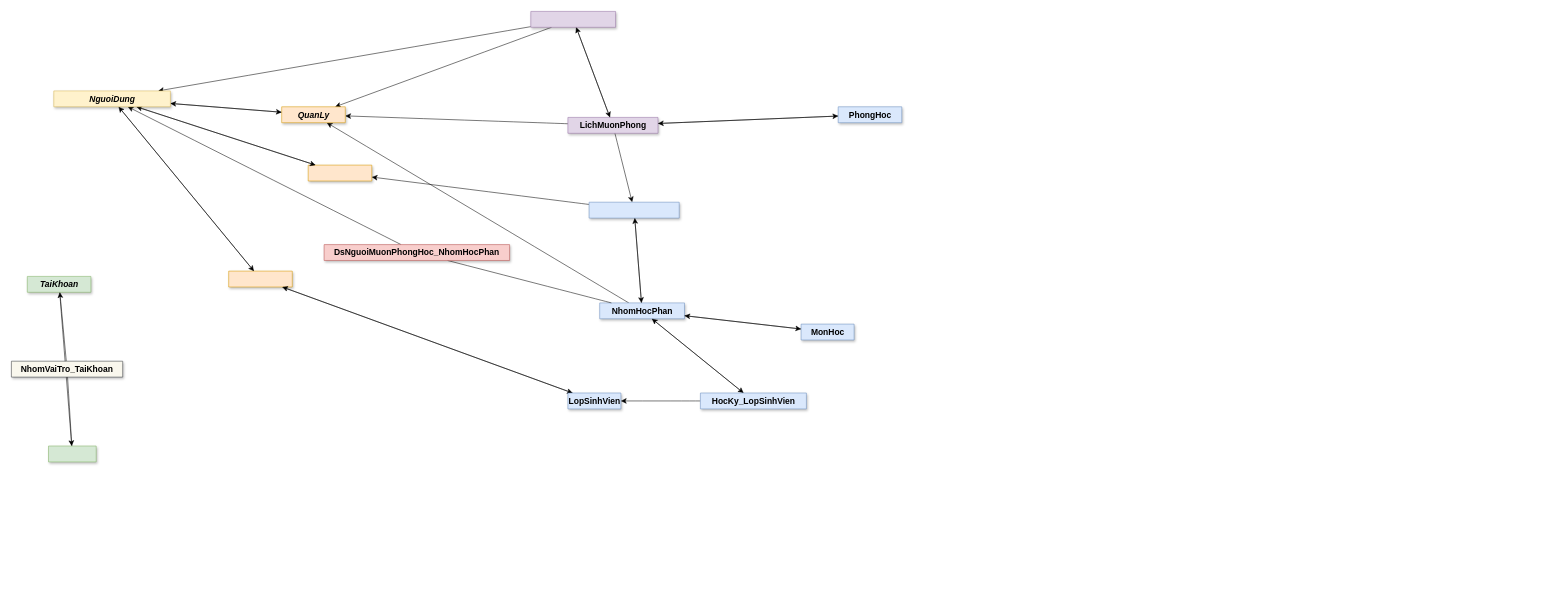
This 1552x614 diagram has some shape labels left out. The centre of each missing label's shape, as x and y in pixels:
"GiangVien" belongs at point 340,173.
"MuonPhongHoc" belongs at point 573,20.
"NhomToHocPhan" belongs at point 634,211.
"SinhVien" belongs at point 260,279.
"VaiTro" belongs at point 72,454.
